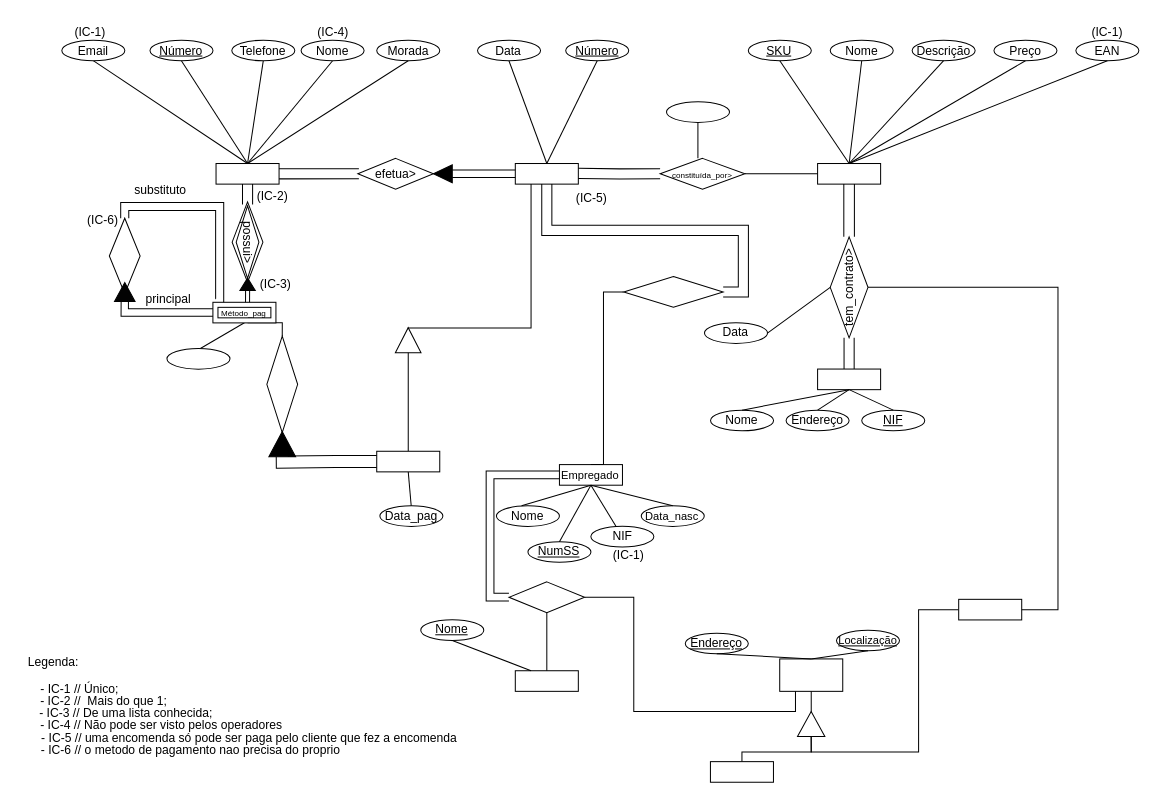
The diagram is 1156 pixels wide and 800 high, and some of its shapes have lost their labels. Here are the shapes that lost their labels. From the top down, the box of each, then its label:
(665, 101, 730, 122): Quantidade
(215, 163, 279, 184): Cliente
(514, 163, 578, 184): Encomenda
(817, 163, 881, 184): Produto
(108, 217, 140, 294): precisa>
(623, 276, 723, 307): processa>
(166, 348, 230, 369): Token
(266, 335, 298, 433): necessita_de>
(817, 368, 881, 390): Fornecedor
(376, 450, 440, 472): Venda
(508, 581, 585, 613): trabalha_em>
(958, 598, 1022, 620): Armazém
(514, 670, 578, 691): Departamento
(779, 658, 843, 691): Local de Trabalho
(709, 761, 773, 782): Escritório
